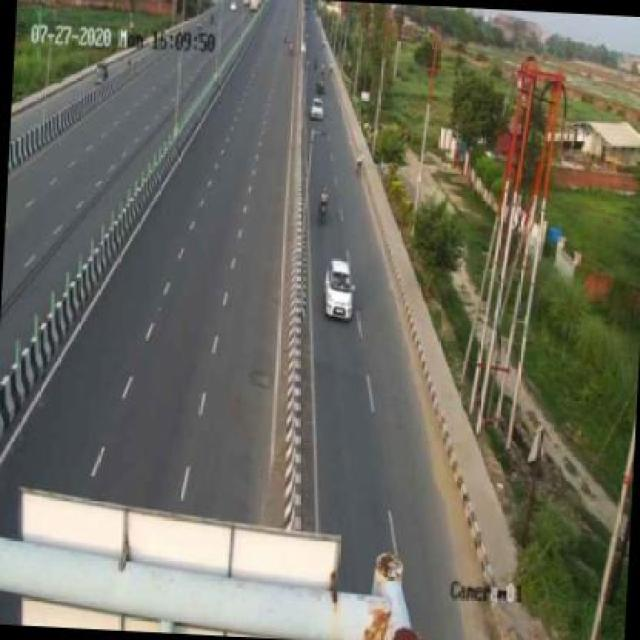car: (314, 248, 360, 326), (308, 95, 329, 120)
